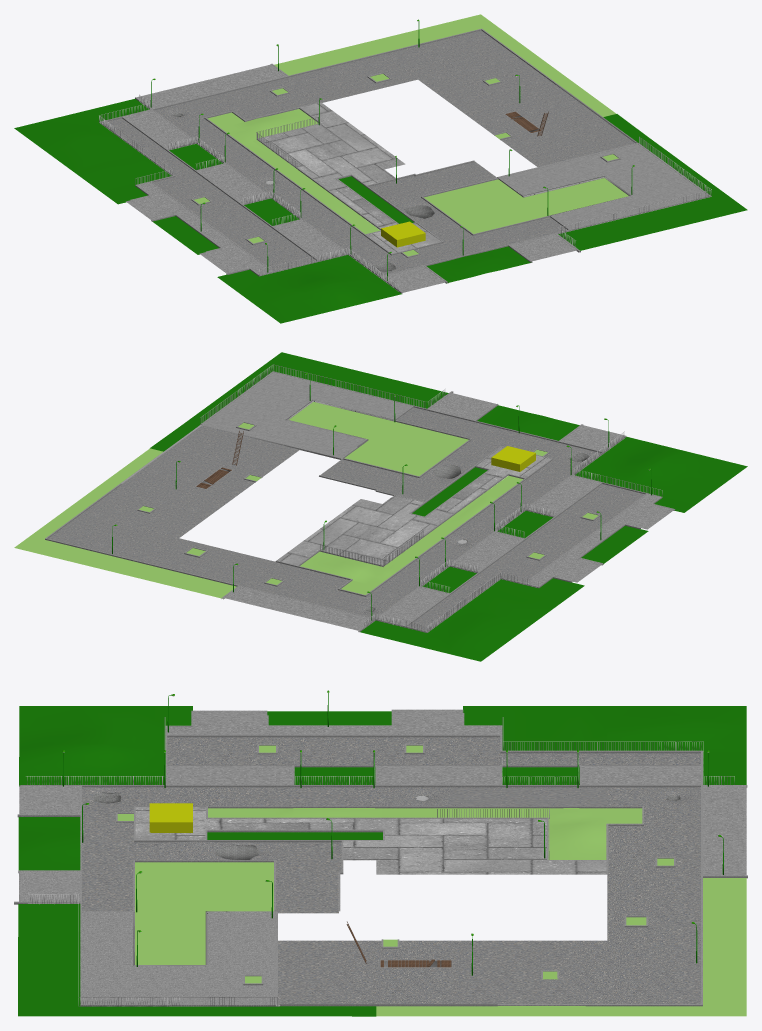
File: MapElements.fbx
3 renders of one model, top to bottom at view 1: azimuth 30°, elevation 25°; view 2: azimuth 150°, elevation 25°; view 3: azimuth 270°, elevation 25°, orthographic. The views are drawn at different scales.
Parts seen in each view (by area): view 1: asphalt5.000, trava2, as6, Cube, Zabor.024, bordurTree, Lamps2, CnucklesStatue; view 2: asphalt5.000, trava2, as6, Cube, Zabor.024, bordurTree, CnucklesStatue, Lamps2; view 3: asphalt5.000, trava2, as6, Cube, Zabor.024, bordurTree, CnucklesStatue, Lamps2.
Boxes of the visible parts, bbox=[...] form: asphalt5.000: bbox=[103, 30, 634, 275]; trava2: bbox=[14, 14, 747, 323]; as6: bbox=[123, 64, 707, 292]; Cube: bbox=[100, 28, 710, 293]; Zabor.024: bbox=[99, 94, 711, 291]; bordurTree: bbox=[191, 72, 620, 257]; Lamps2: bbox=[150, 19, 634, 280]; CnucklesStatue: bbox=[381, 221, 425, 247]; asphalt5.000: bbox=[48, 407, 644, 630]; trava2: bbox=[14, 352, 747, 661]; as6: bbox=[204, 372, 674, 630]; Cube: bbox=[45, 371, 675, 632]; Zabor.024: bbox=[200, 364, 662, 632]; bordurTree: bbox=[137, 421, 600, 586]; CnucklesStatue: bbox=[491, 446, 535, 471]; Lamps2: bbox=[112, 373, 651, 620]; asphalt5.000: bbox=[82, 737, 700, 1005]; trava2: bbox=[18, 706, 746, 1016]; as6: bbox=[19, 709, 746, 1003]; Cube: bbox=[14, 709, 747, 1006]; Zabor.024: bbox=[26, 717, 734, 1006]; bordurTree: bbox=[116, 744, 675, 985]; CnucklesStatue: bbox=[149, 803, 192, 832]; Lamps2: bbox=[62, 690, 723, 975].
Size of the model in its own units: 6194 by 603 by 6183.
